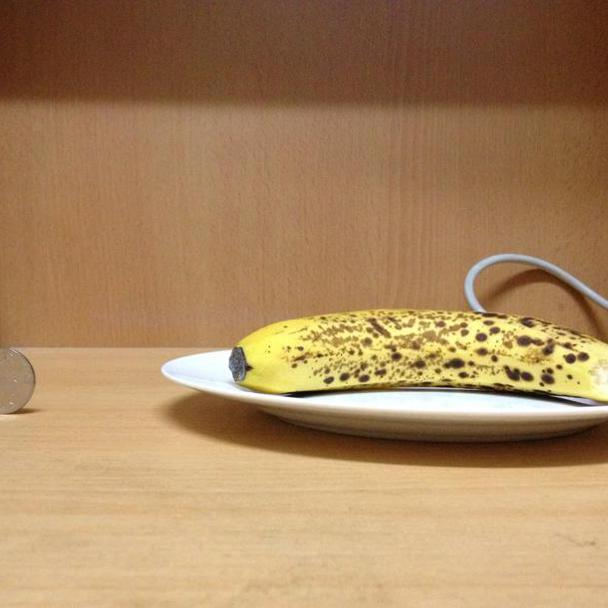banana: (228, 304, 608, 403)
